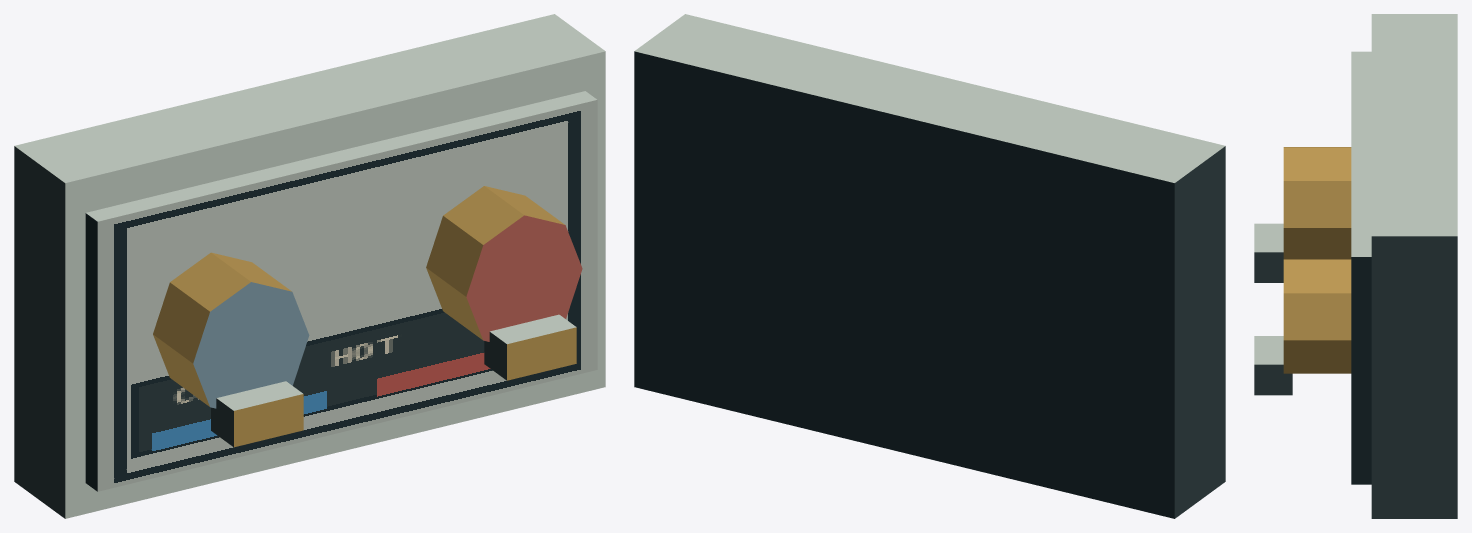
Rendered from toma_agua_doble.glb.
The picture shows the model from 3 angles, left to right: view 1: azimuth 30°, elevation 25°; view 2: azimuth 150°, elevation 25°; view 3: azimuth 270°, elevation 25°; orthographic projection. The views are drawn at different scales.
Visible parts, largest first — view 1: ELECTRICO; view 2: ELECTRICO; view 3: ELECTRICO.
Part boxes in pixels (x1,y1,x2,y2): ELECTRICO: (14, 14, 605, 518); ELECTRICO: (634, 14, 1225, 518); ELECTRICO: (1254, 14, 1457, 518).
Size of the model in its own units: 0.3543 by 0.2103 by 0.1372.
1 material, 1 textured.
